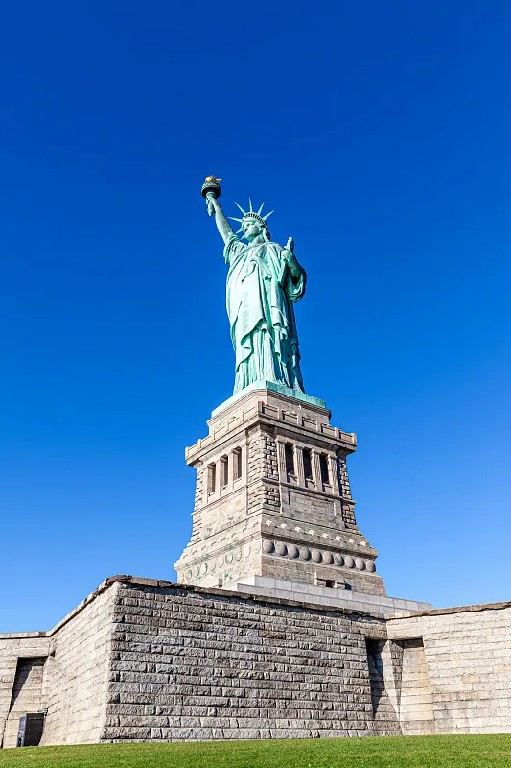SL: (174, 173, 385, 592)
